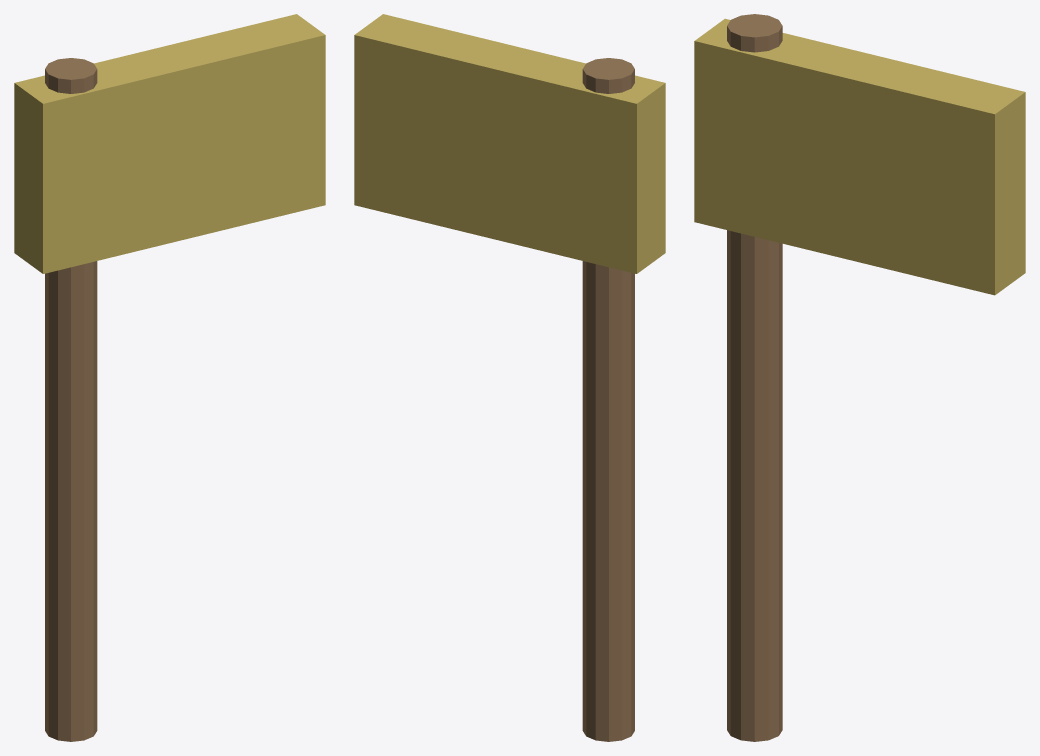
The model's file is golden_battle_axe.glb.
The picture shows the model from 3 angles, left to right: view 1: azimuth 30°, elevation 25°; view 2: azimuth 150°, elevation 25°; view 3: azimuth 330°, elevation 25°; orthographic projection. The views are drawn at different scales.
Visible parts, largest first — view 1: axe_0_1, axe_0_0; view 2: axe_0_1, axe_0_0; view 3: axe_0_1, axe_0_0.
Boxes of the visible parts, x1=… form: axe_0_1: x1=14, y1=14, x2=325, y2=273; axe_0_0: x1=45, y1=58, x2=97, y2=741; axe_0_1: x1=354, y1=14, x2=665, y2=273; axe_0_0: x1=582, y1=58, x2=634, y2=741; axe_0_1: x1=694, y1=18, x2=1025, y2=295; axe_0_0: x1=727, y1=14, x2=782, y2=741.
Size of the model in its own units: 1.25 by 2.8 by 0.22.
